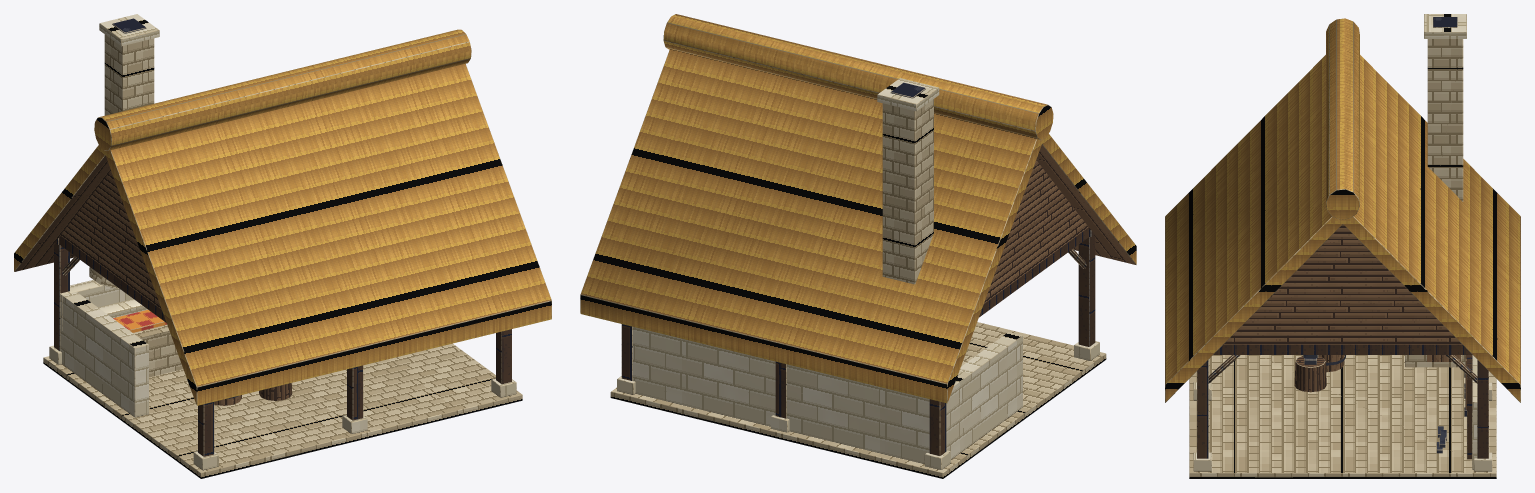
The model's file is smithy_1.glb.
3 renders of one model, left to right at view 1: azimuth 30°, elevation 25°; view 2: azimuth 150°, elevation 25°; view 3: azimuth 270°, elevation 25°, orthographic. The views are drawn at different scales.
Visible parts, largest first — view 1: smithy_2; view 2: smithy_2; view 3: smithy_2.
Boxes of the visible parts, left/top/right/bottom form: smithy_2: left=14, top=14, right=551, bottom=478; smithy_2: left=580, top=14, right=1136, bottom=478; smithy_2: left=1165, top=14, right=1520, bottom=478.
Bounding box in the file's own units: 7.5 × 6.81 × 6.6.
Materials: 12 (12 with a texture image).
